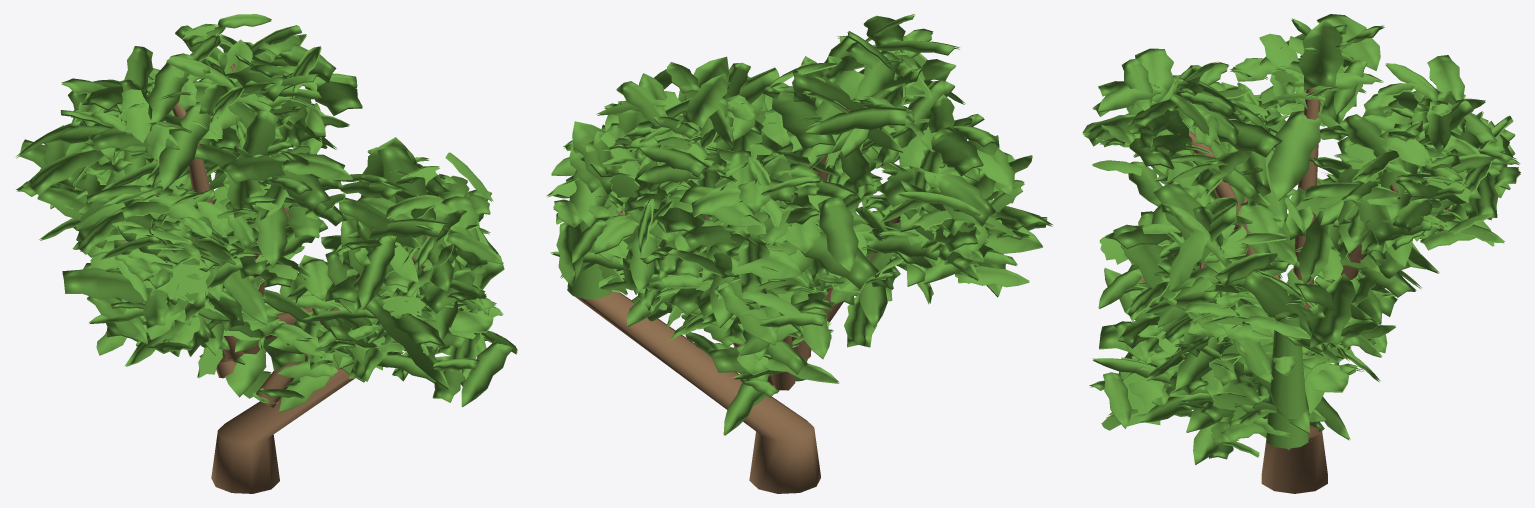
The model's file is oak.glb.
The picture shows the model from 3 angles, left to right: view 1: azimuth 30°, elevation 25°; view 2: azimuth 150°, elevation 25°; view 3: azimuth 270°, elevation 25°; orthographic projection. The views are drawn at different scales.
Visible parts, largest first — view 1: Oak_Canopy, Oak_Trunk; view 2: Oak_Canopy, Oak_Trunk; view 3: Oak_Canopy, Oak_Trunk.
Part boxes in pixels (x1,y1,x2,y2): Oak_Canopy: (16, 14, 517, 412); Oak_Trunk: (122, 63, 428, 493); Oak_Canopy: (546, 14, 1053, 435); Oak_Trunk: (575, 108, 994, 493); Oak_Canopy: (1082, 14, 1520, 464); Oak_Trunk: (1138, 88, 1450, 493).
Bounding box in the file's own units: 1.39 × 1.26 × 1.17.
